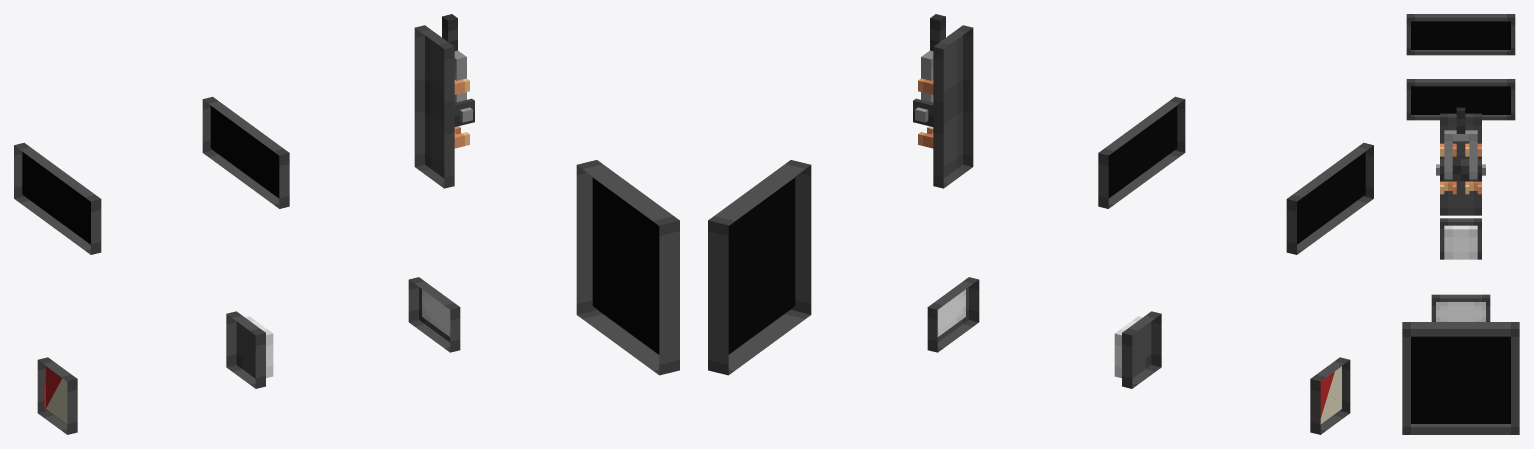
The model's file is RoR_components.obj.
3 renders of one model, left to right at view 1: azimuth 30°, elevation 25°; view 2: azimuth 150°, elevation 25°; view 3: azimuth 270°, elevation 25°, orthographic. The views are drawn at different scales.
Parts seen in each view (by area): view 1: rbmk_terminal_Base, rbmk_lever_Base, rbmk_numitron_Plane, rbmk_graph_Plane, rbmk_gauge_Gauge, rbmk_key_pad_Socket, rbmk_indicator_Base, rbmk_lever_Lever, rbmk_indicator_Light; view 2: rbmk_terminal_Base, rbmk_lever_Base, rbmk_numitron_Plane, rbmk_graph_Plane, rbmk_gauge_Gauge, rbmk_key_pad_Socket, rbmk_indicator_Base, rbmk_lever_Lever, rbmk_indicator_Light; view 3: rbmk_terminal_Base, rbmk_numitron_Plane, rbmk_graph_Plane, rbmk_lever_Base, rbmk_lever_Lever, rbmk_key_pad_Button, rbmk_indicator_Light, rbmk_indicator_Base, rbmk_key_pad_Socket.
Part boxes in pixels (left/top/right/bottom): rbmk_terminal_Base: left=576, top=160, right=679, bottom=375; rbmk_lever_Base: left=414, top=25, right=474, bottom=188; rbmk_numitron_Plane: left=14, top=142, right=101, bottom=254; rbmk_graph_Plane: left=202, top=96, right=289, bottom=208; rbmk_gauge_Gauge: left=37, top=357, right=77, bottom=434; rbmk_key_pad_Socket: left=226, top=311, right=265, bottom=388; rbmk_indicator_Base: left=408, top=277, right=460, bottom=352; rbmk_lever_Lever: left=442, top=14, right=472, bottom=122; rbmk_indicator_Light: left=422, top=289, right=450, bottom=336; rbmk_terminal_Base: left=708, top=160, right=811, bottom=375; rbmk_lever_Base: left=913, top=25, right=973, bottom=188; rbmk_numitron_Plane: left=1286, top=142, right=1373, bottom=254; rbmk_graph_Plane: left=1098, top=96, right=1185, bottom=208; rbmk_gauge_Gauge: left=1310, top=357, right=1350, bottom=434; rbmk_key_pad_Socket: left=1122, top=311, right=1161, bottom=388; rbmk_indicator_Base: left=927, top=277, right=979, bottom=352; rbmk_lever_Lever: left=915, top=14, right=945, bottom=122; rbmk_indicator_Light: left=937, top=289, right=965, bottom=336; rbmk_terminal_Base: left=1402, top=322, right=1519, bottom=434; rbmk_numitron_Plane: left=1406, top=14, right=1515, bottom=55; rbmk_graph_Plane: left=1406, top=79, right=1515, bottom=120; rbmk_lever_Base: left=1440, top=113, right=1481, bottom=215; rbmk_lever_Lever: left=1436, top=107, right=1485, bottom=179; rbmk_key_pad_Button: left=1444, top=225, right=1477, bottom=259; rbmk_indicator_Light: left=1436, top=302, right=1485, bottom=321; rbmk_indicator_Base: left=1431, top=294, right=1490, bottom=321; rbmk_key_pad_Socket: left=1440, top=218, right=1481, bottom=259.
Bounding box in the file's own units: 3.58 × 2.15 × 0.875.
Materials: 7 (7 with a texture image).
